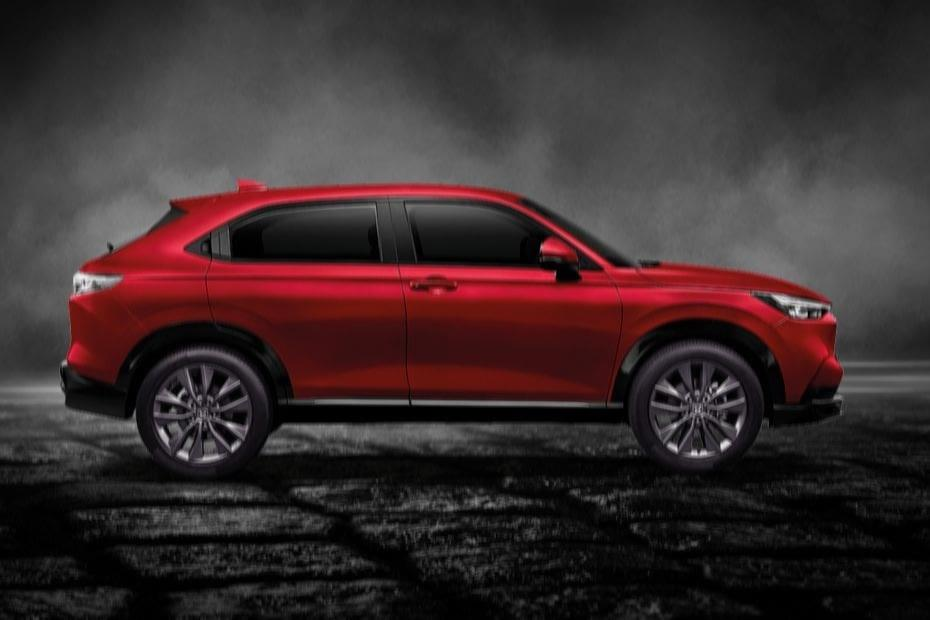Car hood: (635, 257, 831, 307)
Driver-s door - -F-R-: (395, 193, 623, 414)
Fender - -F-R-: (605, 264, 785, 405)
Fender - -R-R-: (101, 238, 216, 351)
Front bumper: (747, 314, 854, 426)
Headlight - -R-: (745, 285, 838, 328)
Passenger-s door - -R-R-: (207, 191, 406, 413)
Rear bumper: (56, 291, 152, 428)
Rear light - -R-: (66, 263, 128, 307)
Side bumper - -R-: (268, 391, 635, 430)
Side mirror - -R-: (532, 229, 588, 291)
